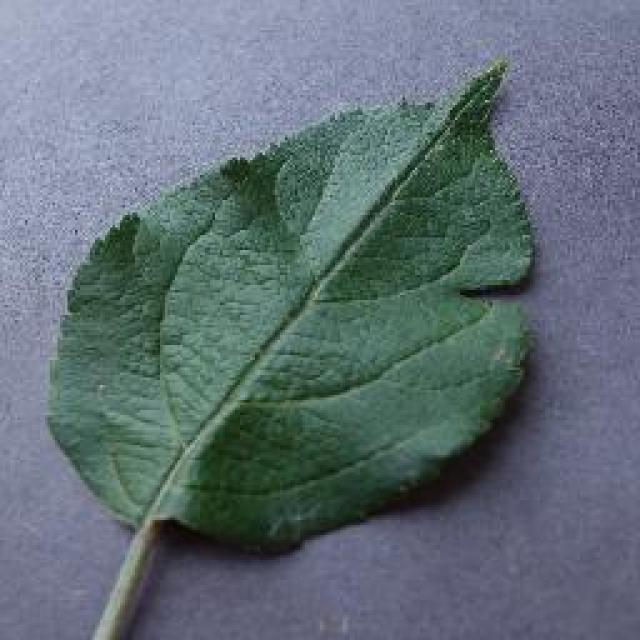Apple___healthy: (41, 57, 540, 557)
